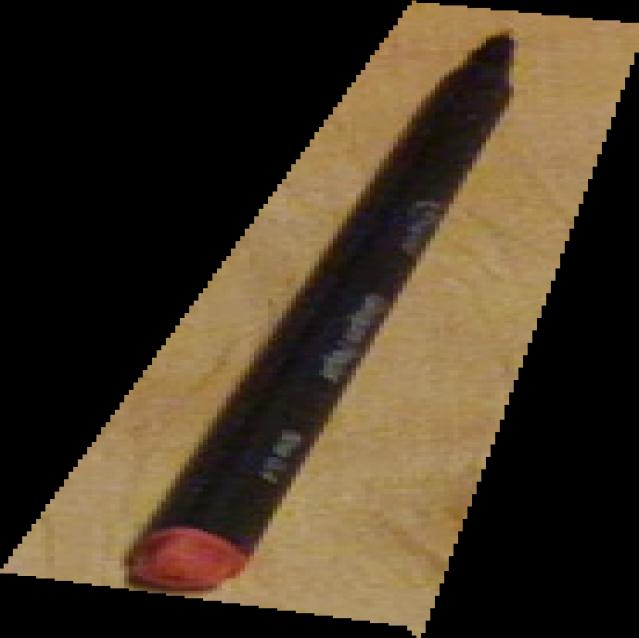red: (0, 0, 639, 638)
